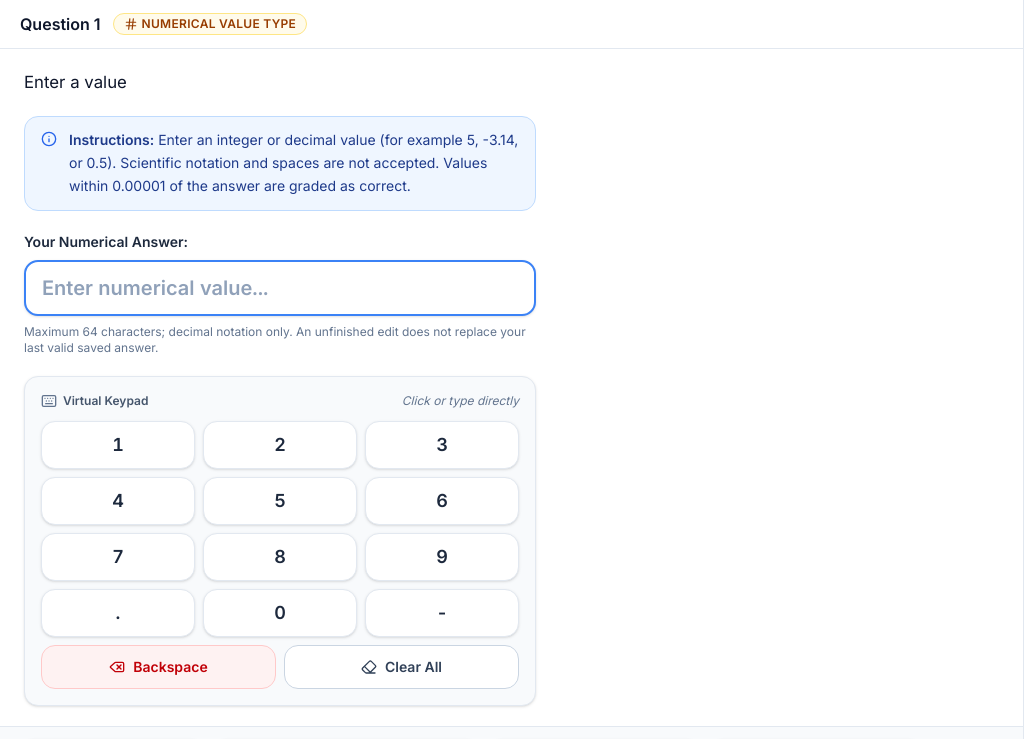
QuestionPanel numerical answers › rejects scientific notation without replacing the last saved answer
In the field labelled "Your Numerical Answer:": x=280, y=288 x1=24 y1=260 x2=536 y2=316, type "1e5"
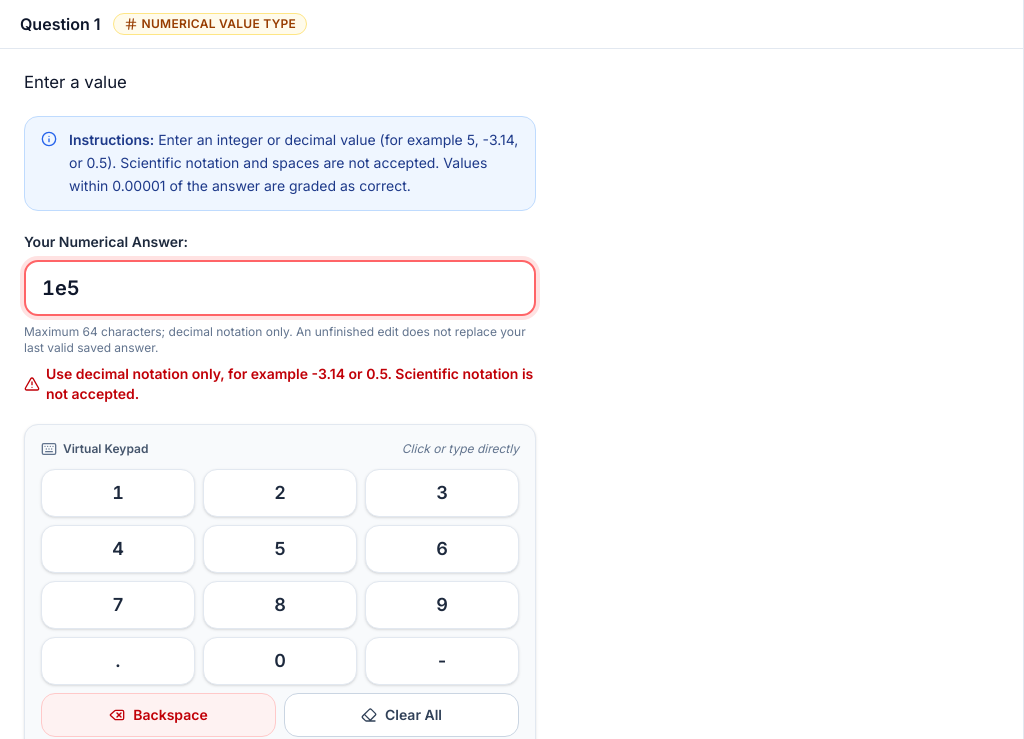
Check: the message shows "Scientific notation is not accepted.", box x1=46 y1=364 x2=533 y2=402
